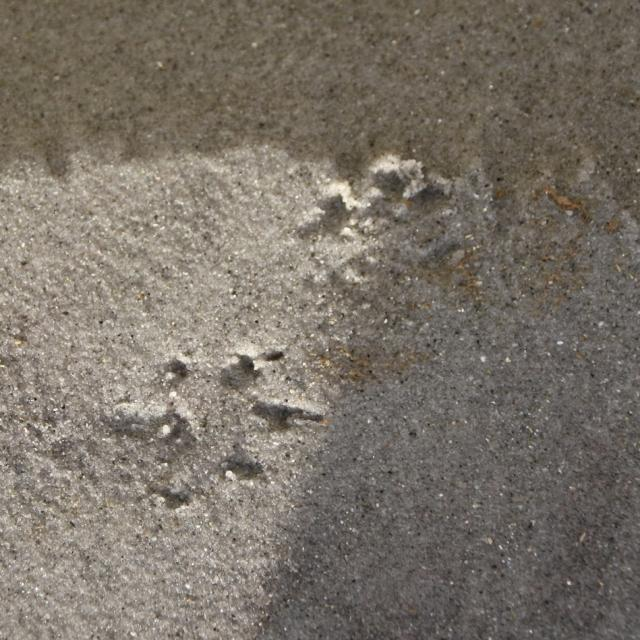mustelid: (145, 348, 317, 511), (318, 156, 467, 310)
